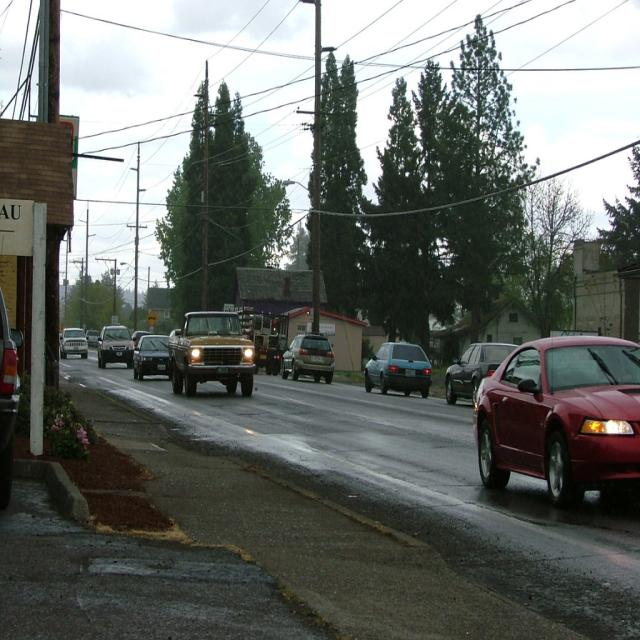car: (364, 340, 429, 398), (282, 331, 335, 381)
